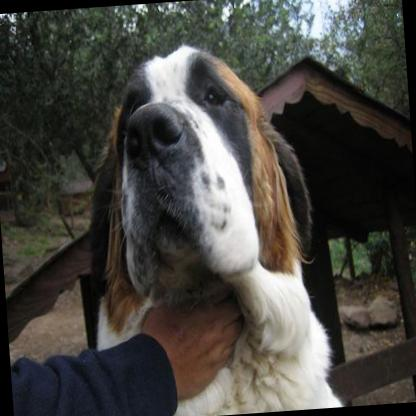Tibetan_mastiff: (60, 29, 342, 416)
